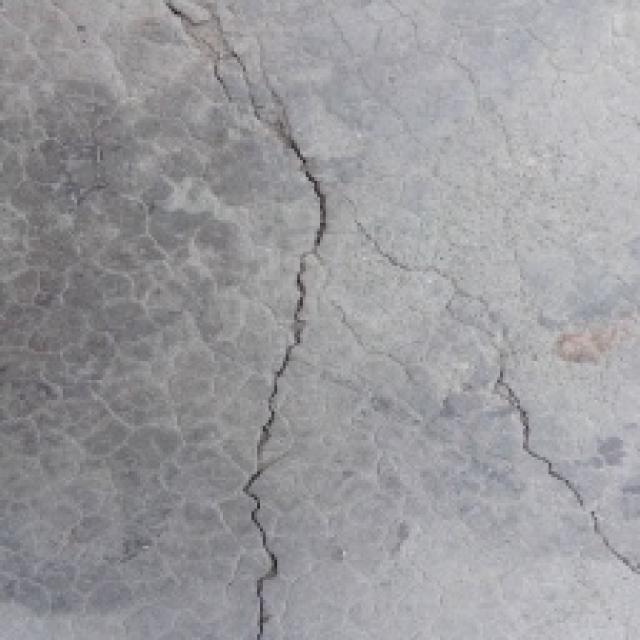crack: (154, 0, 348, 640)
